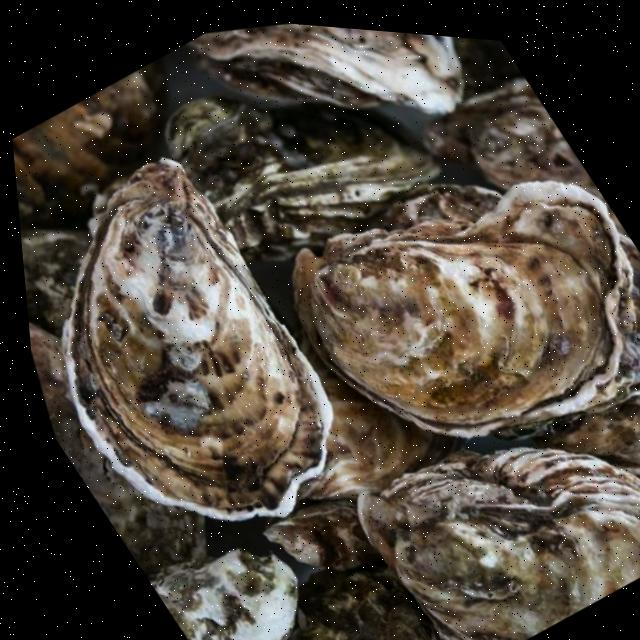Oyster-Closed: (139, 11, 463, 301), (183, 15, 497, 216), (141, 506, 341, 640)
Oyster-Indeterminate: (12, 131, 395, 592), (245, 90, 640, 523), (328, 344, 640, 640)
